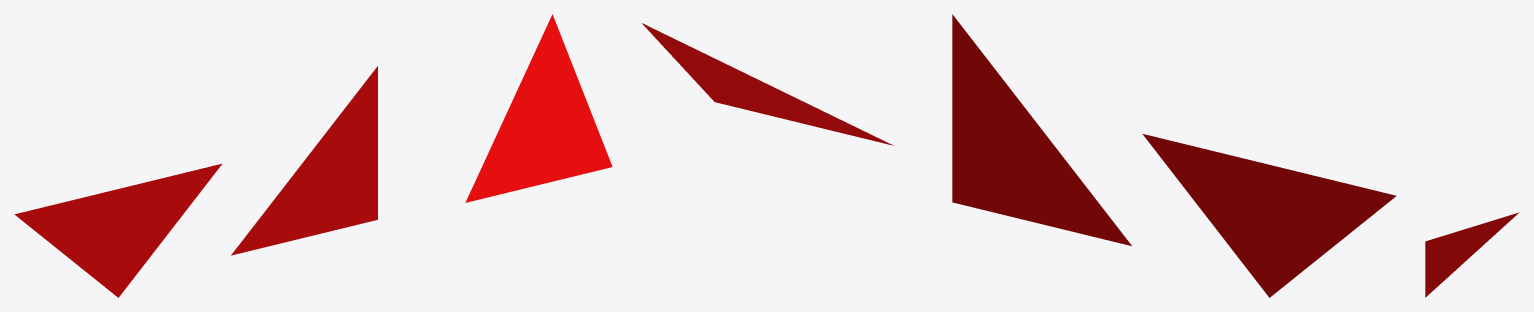
Rendered from normals_test.fbx.
The picture shows the model from 3 angles, left to right: view 1: azimuth 30°, elevation 25°; view 2: azimuth 150°, elevation 25°; view 3: azimuth 270°, elevation 25°; orthographic projection. The views are drawn at different scales.
Visible parts, largest first — view 1: Plane; view 2: Plane; view 3: Plane.
Part boxes in pixels (x1,y1,x2,y2): Plane: [14, 14, 612, 297]; Plane: [642, 14, 1396, 297]; Plane: [1425, 212, 1519, 297].
Size of the model in its own units: 1.58 by 0.2844 by 0.4411.
